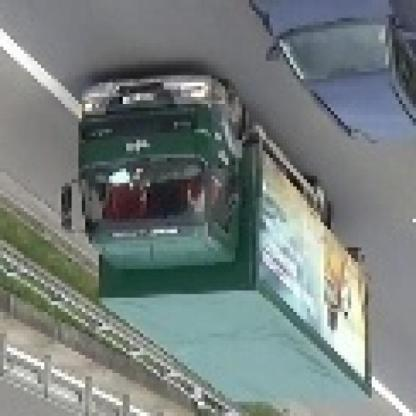truck: (66, 76, 376, 414)
